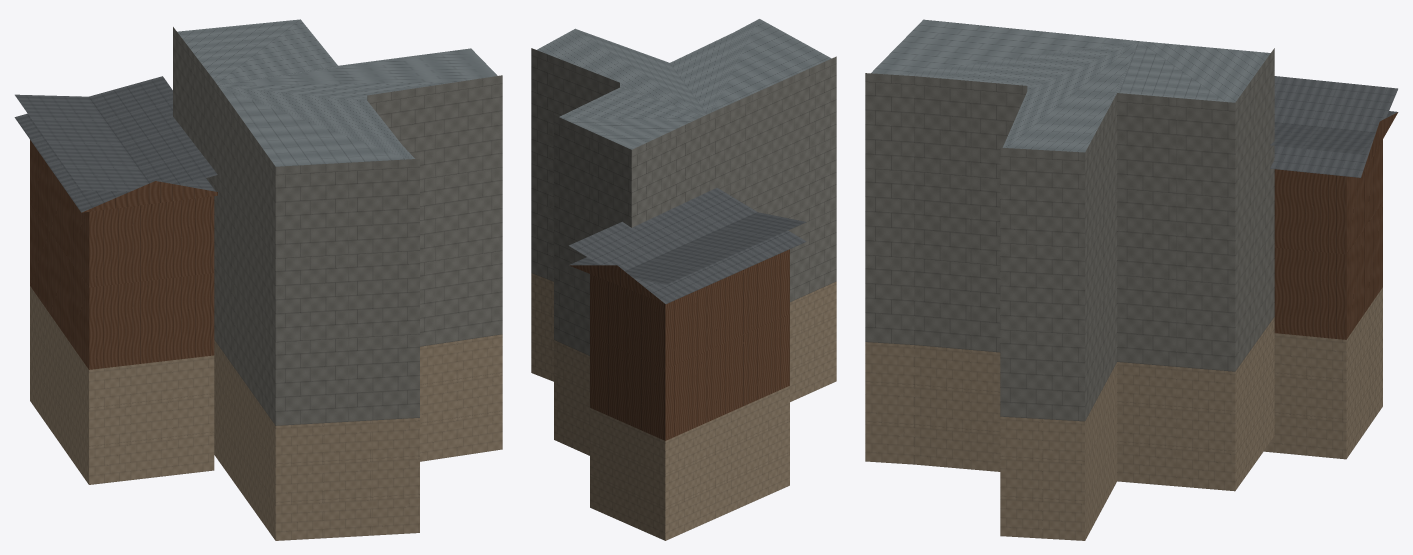
File: bld_c-8_36_391.gltf
The picture shows the model from 3 angles, left to right: view 1: azimuth 30°, elevation 25°; view 2: azimuth 150°, elevation 25°; view 3: azimuth 270°, elevation 25°; orthographic projection. The views are drawn at different scales.
Parts seen in each view (by area): view 1: bld_c-8_36_391; view 2: bld_c-8_36_391; view 3: bld_c-8_36_391.
Boxes of the visible parts, x1=… form: bld_c-8_36_391: x1=14, y1=19, x2=502, y2=540; bld_c-8_36_391: x1=531, y1=19, x2=836, y2=540; bld_c-8_36_391: x1=865, y1=19, x2=1398, y2=540.
Bounding box in the file's own units: 16.39 × 17.28 × 20.62.
7 materials, 7 textured.
